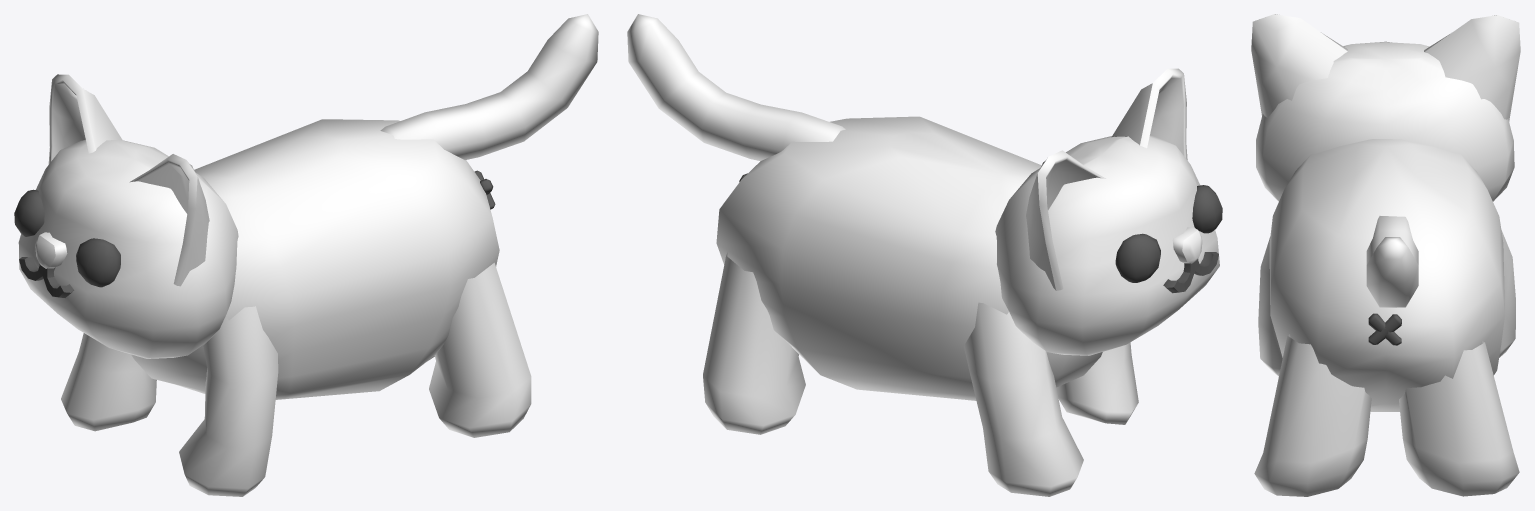
File: yellow kitten.fbx
3 renders of one model, left to right at view 1: azimuth 30°, elevation 25°; view 2: azimuth 150°, elevation 25°; view 3: azimuth 270°, elevation 25°, orthographic. The views are drawn at different scales.
Parts seen in each view (by area): view 1: yellow_kitten1, yellow_kitten; view 2: yellow_kitten1, yellow_kitten; view 3: yellow_kitten1.
Part boxes in pixels (x1,y1,x2,y2): yellow_kitten1: (18, 14, 598, 496); yellow_kitten: (14, 189, 120, 297); yellow_kitten1: (627, 14, 1219, 496); yellow_kitten: (1115, 185, 1222, 293); yellow_kitten1: (1251, 14, 1520, 496).
Bounding box in the file's own units: 1.94 × 1.18 × 0.8559.
